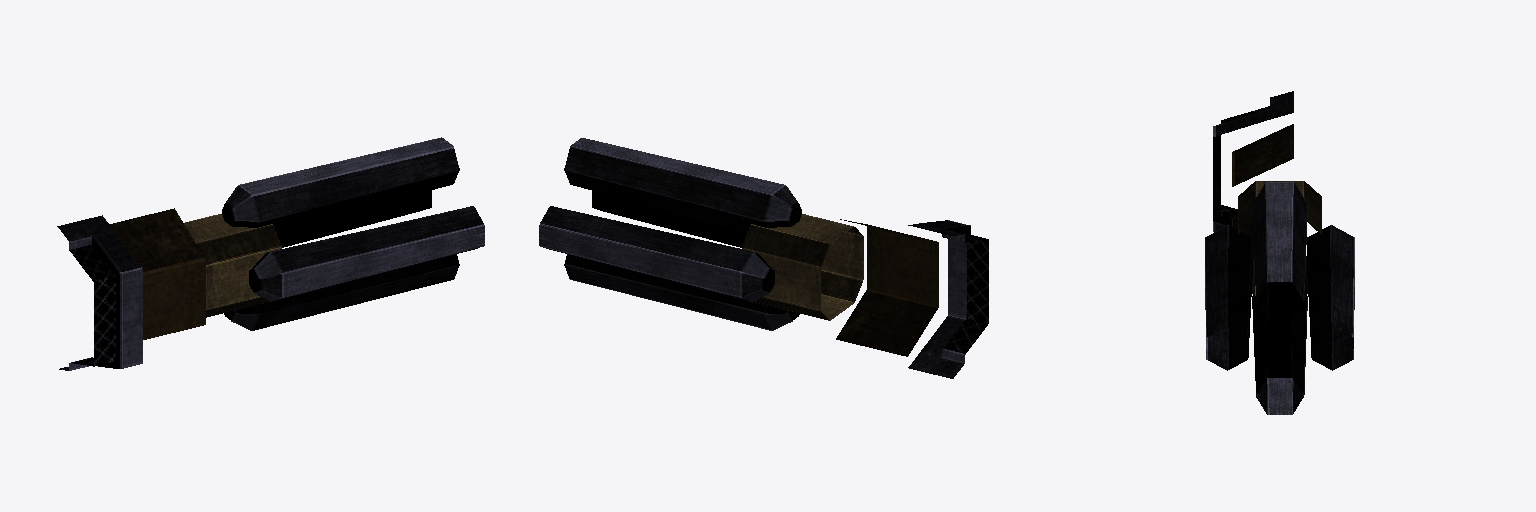
3 views of the same model, side by side, from view 1: azimuth 30°, elevation 25°; view 2: azimuth 150°, elevation 25°; view 3: azimuth 270°, elevation 25° (orthographic).
Bounding box in the file's own units: 30.2 × 10.75 × 10.24.
Materials: 1 (1 with a texture image).